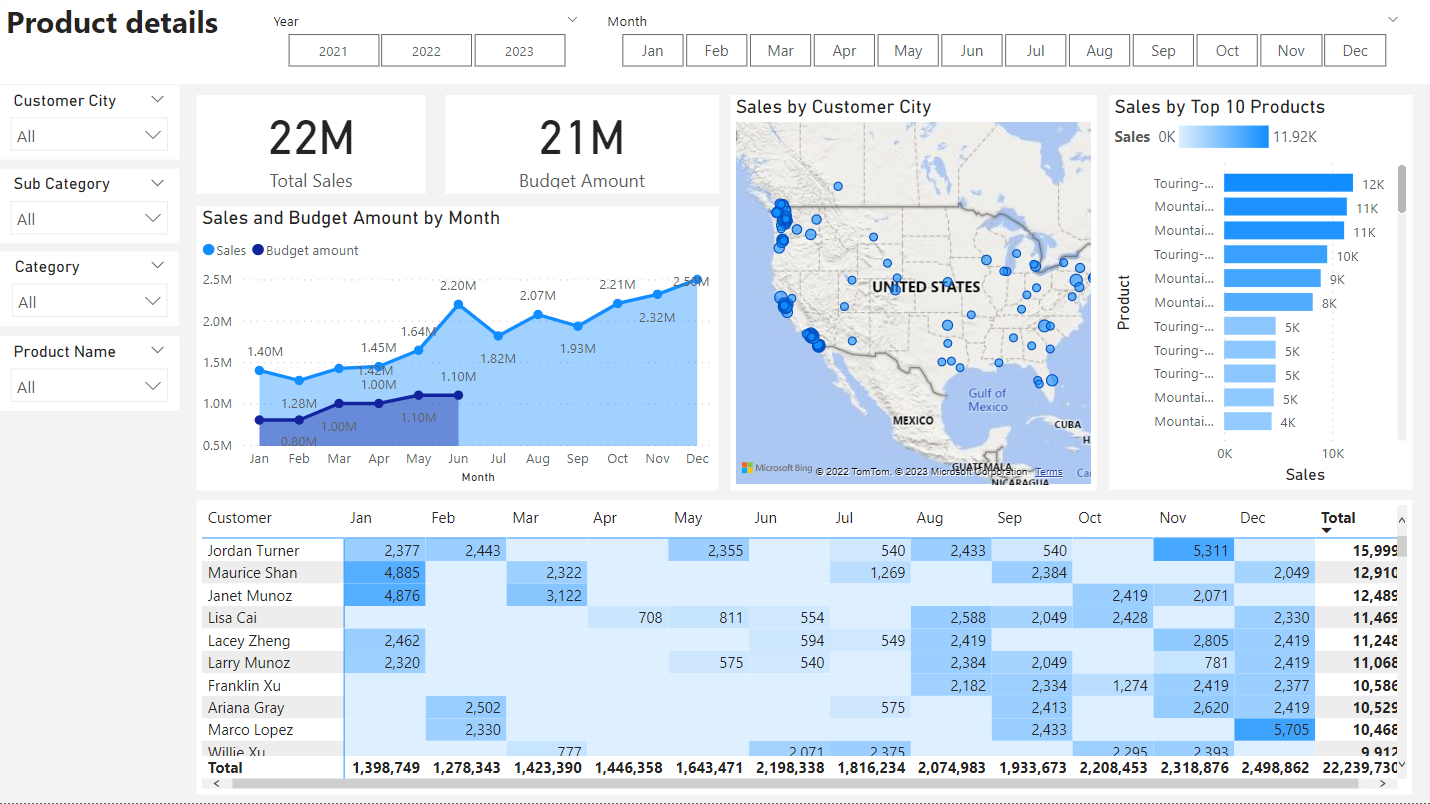

What the dashboard file says about the page in this screenshot:
{"tool":"powerbi","page":{"name":"Product_details","canvas":[1280,720],"ordinal":2},"visuals":[{"type":"textbox","box":[1.4,0,1278.9,79.6],"z":0},{"type":"slicer","fields":{"Values":["DIM_customer.Customer City"]},"box":[0,79.6,160.4,66.3],"z":1000},{"type":"slicer","fields":{"Values":["DIM_product.Sub Category"]},"box":[0,154.4,160.4,66.3],"z":2000},{"type":"slicer","fields":{"Values":["DIM_product.Product Category"]},"box":[1.2,227.9,159.2,66.3],"z":3000},{"type":"slicer","fields":{"Values":["DIM_product.Product Name"]},"box":[0,303.9,160.4,66.3],"z":4000},{"type":"slicer","fields":{"Values":["DIM_calendar.Year"]},"box":[231.9,9.6,296.4,60.4],"z":5000},{"type":"slicer","fields":{"Values":["DIM_calendar.MonthShort"]},"box":[528.3,9.6,730,60.4],"z":6000},{"type":"barChart","title":"Sales by Top 10 Products","fields":{"Y":["Key Measurements.Sales"],"Category":["DIM_product.Product Name"]},"box":[987.7,89.2,270.2,351],"z":9000},{"type":"pivotTable","fields":{"Rows":["DIM_customer.Full Name"],"Values":["Key Measurements.Sales"],"Columns":["DIM_calendar.MonthShort"]},"box":[175.6,450.1,1082.7,262.1],"z":11000},{"type":"map","fields":{"Category":["DIM_customer.Customer City"],"Size":["Key Measurements.Sales"]},"box":[651,89,326.1,351.7],"z":12000},{"type":"card","title":"Total Sales","fields":{"Values":["Key Measurements.Sales"]},"box":[176.1,89.2,203.8,88],"z":12001},{"type":"card","title":"Total Sales","fields":{"Values":["Key Measurements.Budget amount"]},"box":[396.8,89.2,243.6,88],"z":12002},{"type":"areaChart","title":"Sales and Budget Amount by Month","fields":{"Y":["Key Measurements.Sales","Key Measurements.Budget amount"],"Category":["DIM_calendar.MonthShort"]},"box":[175.6,188,465.2,252.5],"z":12003}]}

Visuals, with their boxes in screenshot pixels (x1, y1, x2, y2), scaled from the page's 1280x720 canvas onto the 1430x804 screenshot:
textbox: (2,0,1429,89)
slicer - DIM_customer.Customer City: (0,89,179,163)
slicer - DIM_product.Sub Category: (0,172,179,246)
slicer - DIM_product.Product Category: (1,254,179,329)
slicer - DIM_product.Product Name: (0,339,179,413)
slicer - DIM_calendar.Year: (259,11,590,78)
slicer - DIM_calendar.MonthShort: (590,11,1406,78)
"Sales by Top 10 Products" barChart: (1103,100,1405,492)
pivotTable - DIM_customer.Full Name x Key Measurements.Sales: (196,503,1406,795)
map - DIM_customer.Customer City x Key Measurements.Sales: (727,99,1092,492)
"Total Sales" card: (197,100,424,198)
"Total Sales" card: (443,100,715,198)
"Sales and Budget Amount by Month" areaChart: (196,210,716,492)
